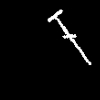double_crochet: (48, 10, 90, 64)
